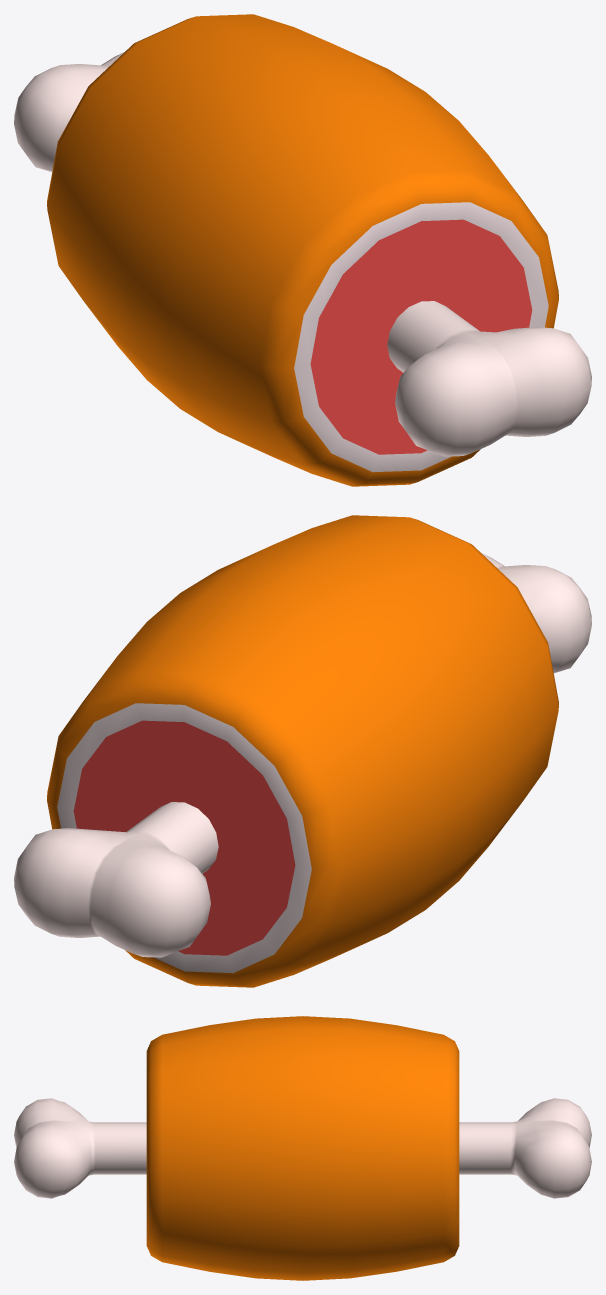
File: meat.glb
3 views of the same model, one above another, from view 1: azimuth 30°, elevation 25°; view 2: azimuth 150°, elevation 25°; view 3: azimuth 270°, elevation 25° (orthographic). The views are drawn at different scales.
Visible parts, largest first — view 1: Meat_on_Bone; view 2: Meat_on_Bone; view 3: Meat_on_Bone.
Part boxes in pixels (x1,y1,x2,y2): Meat_on_Bone: (14, 14, 591, 486); Meat_on_Bone: (14, 515, 591, 987); Meat_on_Bone: (14, 1016, 591, 1280).
Bounding box in the file's own units: 0.1401 × 0.1401 × 0.3056.
1 material, 1 textured.
